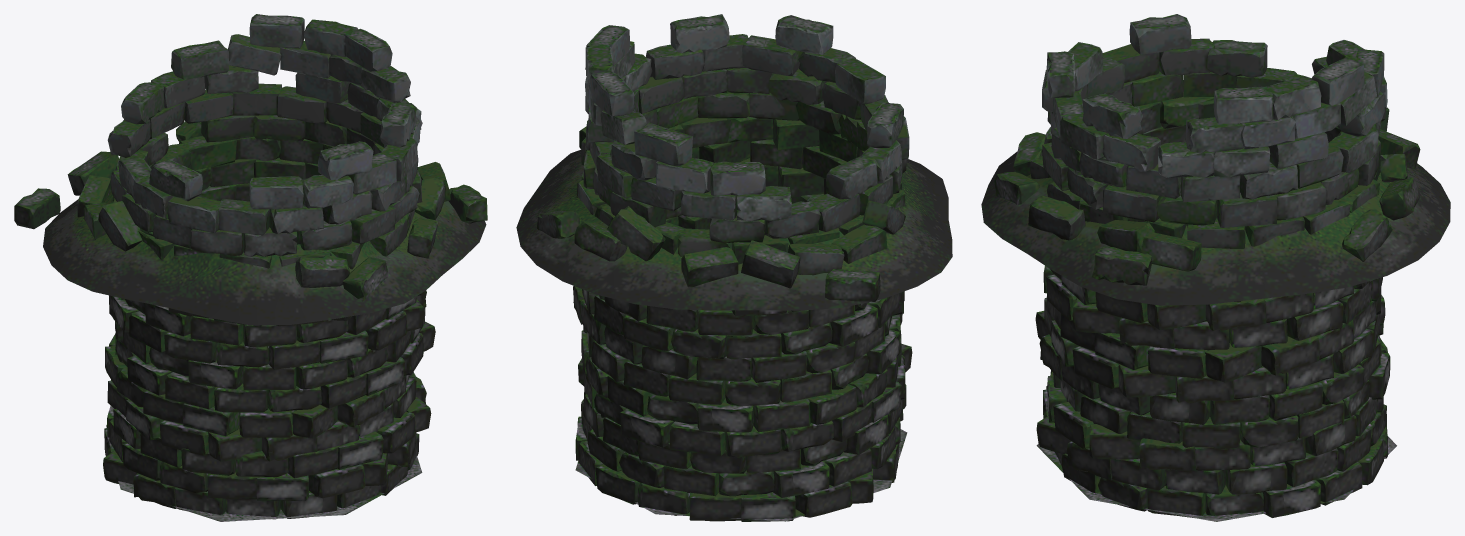
Rendered from Well.fbx.
The picture shows the model from 3 angles, left to right: view 1: azimuth 30°, elevation 25°; view 2: azimuth 150°, elevation 25°; view 3: azimuth 270°, elevation 25°; orthographic projection. The views are drawn at different scales.
Visible parts, largest first — view 1: Well_LOD0; view 2: Well_LOD0; view 3: Well_LOD0.
Boxes of the visible parts, x1,y1,x2,y2 form: Well_LOD0: [14, 14, 487, 521]; Well_LOD0: [516, 14, 952, 521]; Well_LOD0: [981, 14, 1450, 521].
Size of what is drawn, in the model's own units: 2.29 by 2.21 by 2.18.
